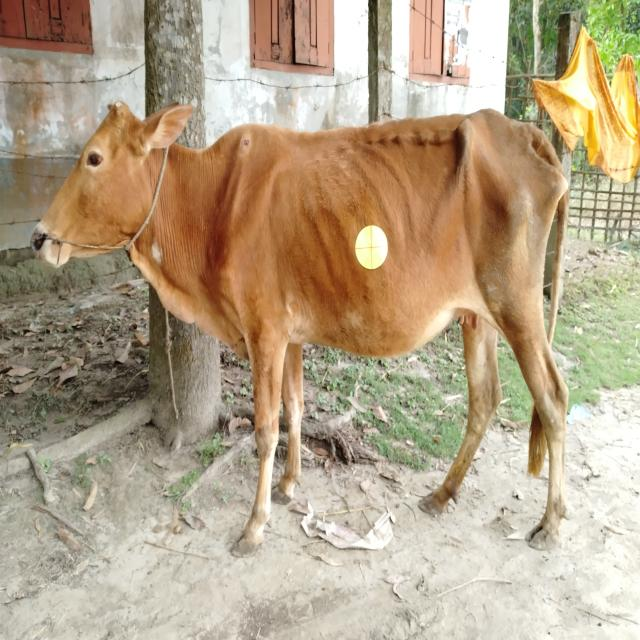badan_sapi: (217, 125, 556, 351)
sapi: (29, 93, 594, 573)
